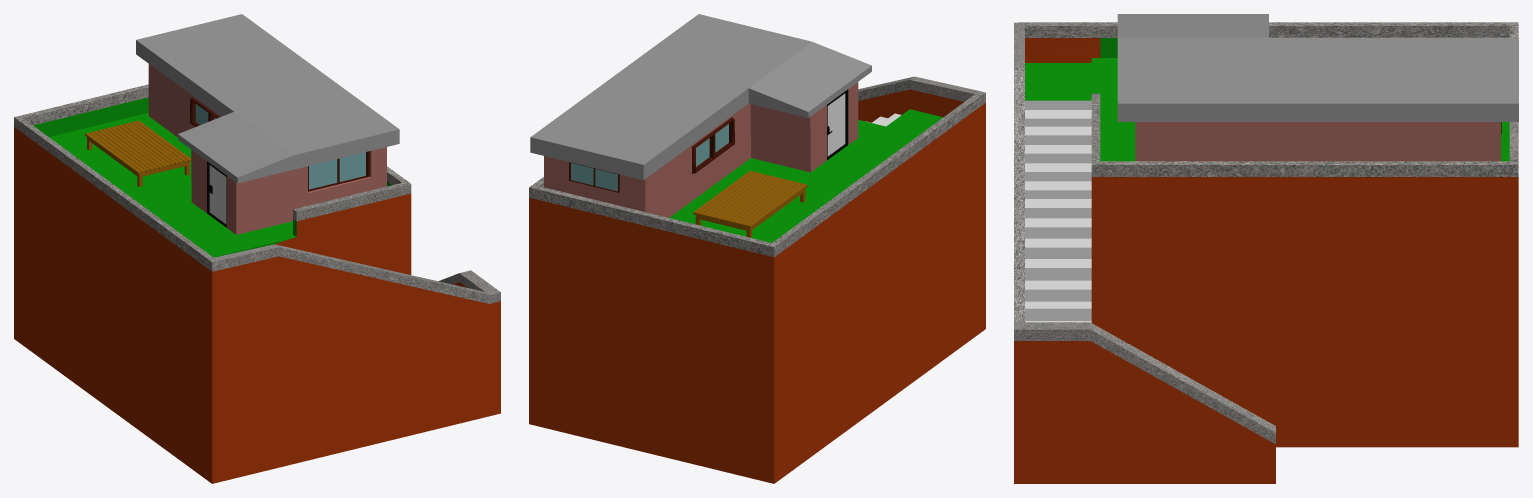
Rendered from tower.fbx.
3 renders of one model, left to right at view 1: azimuth 30°, elevation 25°; view 2: azimuth 150°, elevation 25°; view 3: azimuth 270°, elevation 25°, orthographic. The views are drawn at different scales.
Visible parts, largest first — view 1: pCube1, pCube2, pCube28; view 2: pCube1, pCube2, pCube28; view 3: pCube1, pCube2.
Part boxes in pixels (left/top/right/bottom): pCube1: left=14, top=84, right=500, bottom=483; pCube2: left=136, top=14, right=399, bottom=234; pCube28: left=85, top=120, right=191, bottom=186; pCube1: left=529, top=76, right=985, bottom=483; pCube2: left=530, top=14, right=871, bottom=217; pCube28: left=693, top=171, right=807, bottom=237; pCube1: left=1014, top=22, right=1518, bottom=483; pCube2: left=1117, top=14, right=1518, bottom=161.
Size of the model in its own units: 0.3978 by 0.3545 by 0.4732.
